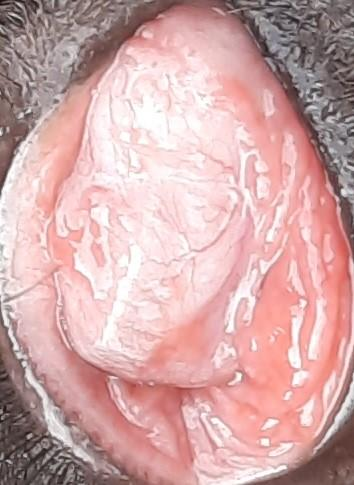eye_membrane: (1, 0, 354, 480)
